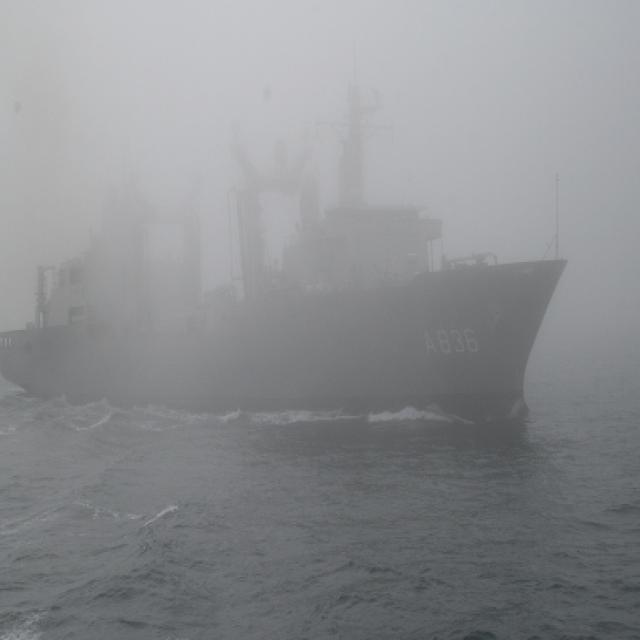cargoship: (26, 69, 583, 462)
